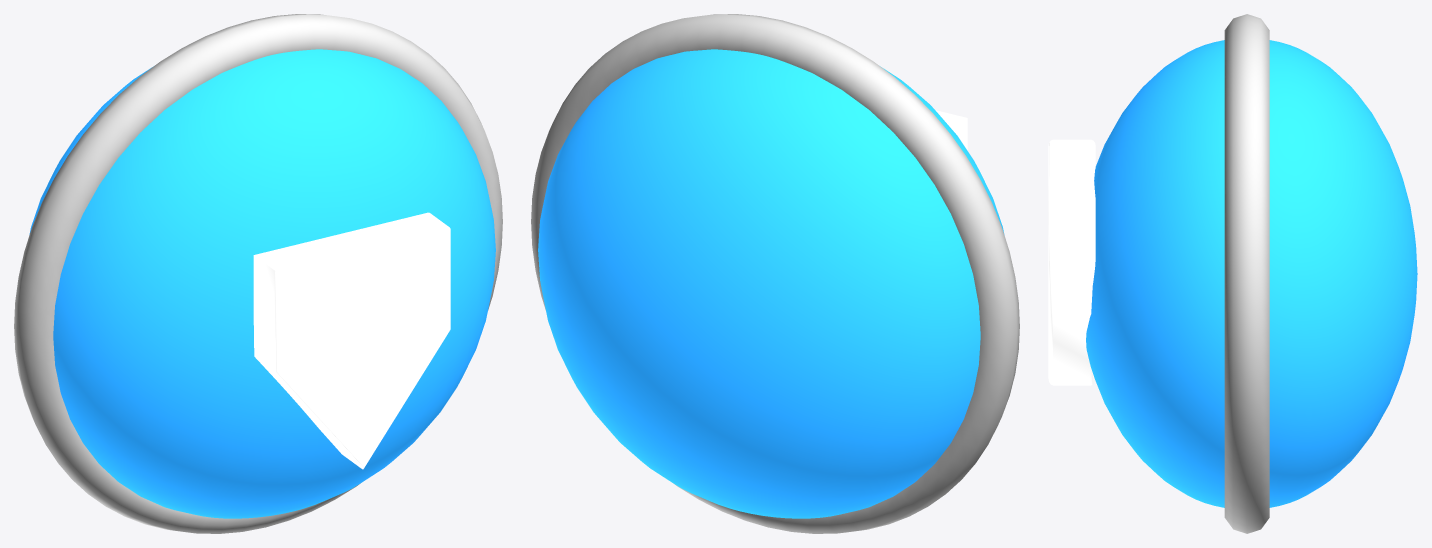
Rendered from bonus_stit.glb.
3 renders of one model, left to right at view 1: azimuth 30°, elevation 25°; view 2: azimuth 150°, elevation 25°; view 3: azimuth 270°, elevation 25°, orthographic. The views are drawn at different scales.
Visible parts, largest first — view 1: bonus_stit_koule, bonus_stit_lem, ikona_stit; view 2: bonus_stit_koule, bonus_stit_lem; view 3: bonus_stit_koule, bonus_stit_lem, ikona_stit.
Boxes of the visible parts, x1=… form: bonus_stit_koule: x1=29, y1=49, x2=495, y2=518; bonus_stit_lem: x1=14, y1=14, x2=502, y2=533; ikona_stit: x1=253, y1=212, x2=450, y2=469; bonus_stit_koule: x1=538, y1=49, x2=1004, y2=518; bonus_stit_lem: x1=531, y1=14, x2=1019, y2=533; bonus_stit_koule: x1=1086, y1=40, x2=1417, y2=507; bonus_stit_lem: x1=1224, y1=14, x2=1269, y2=533; ikona_stit: x1=1048, y1=139, x2=1095, y2=385.
Bounding box in the file's own units: 1.1 × 1.1 × 0.78.
